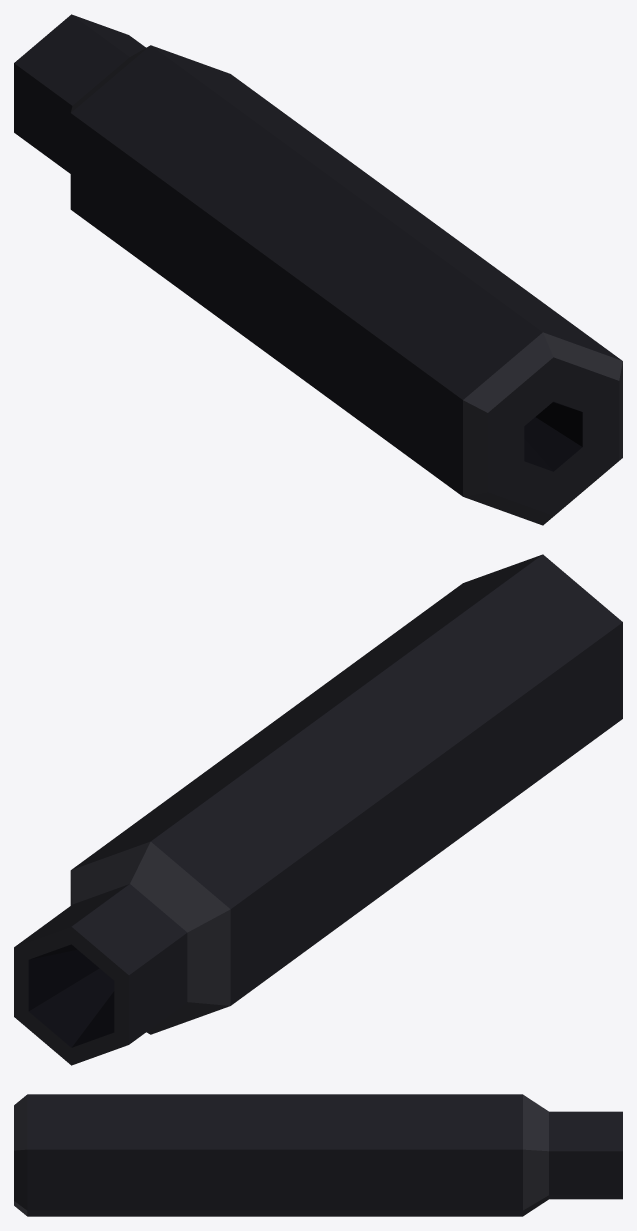
Rendered from MW1_MuzzleDevice_9mm_01.fbx.
3 views of the same model, one above another, from view 1: azimuth 30°, elevation 25°; view 2: azimuth 150°, elevation 25°; view 3: azimuth 270°, elevation 25° (orthographic). The views are drawn at different scales.
Parts seen in each view (by area): view 1: MuzzleDevice_9mm_01; view 2: MuzzleDevice_9mm_01; view 3: MuzzleDevice_9mm_01.
Boxes of the visible parts, x1,y1,x2,y2 form: MuzzleDevice_9mm_01: (14, 14, 622, 525); MuzzleDevice_9mm_01: (14, 554, 622, 1065); MuzzleDevice_9mm_01: (14, 1094, 622, 1216).
Size of the model in its own units: 2.14 by 2.48 by 11.19.
